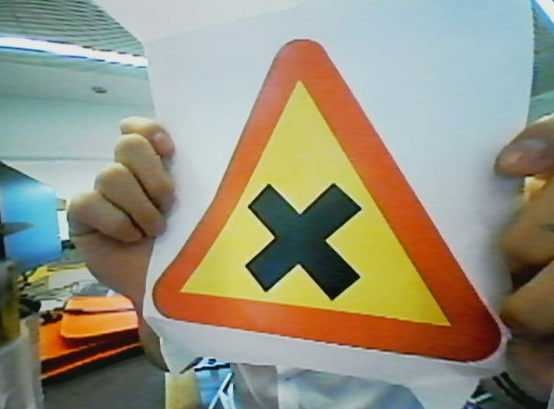junction: (154, 28, 506, 374)
